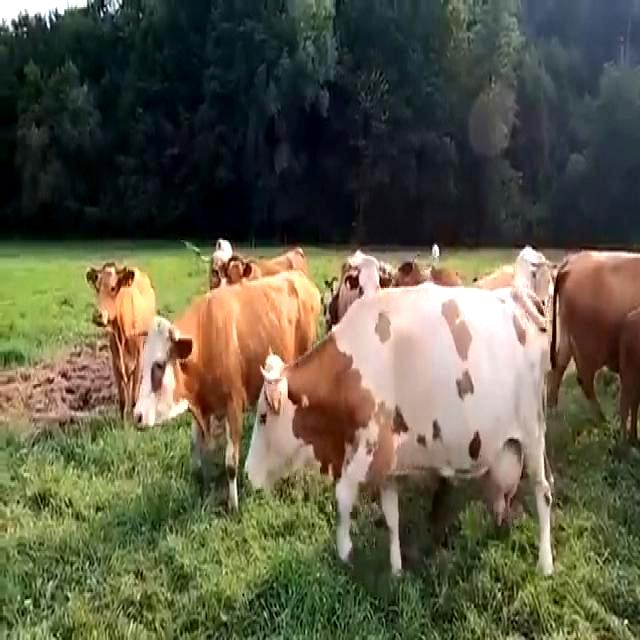COW: (88, 264, 551, 573)
